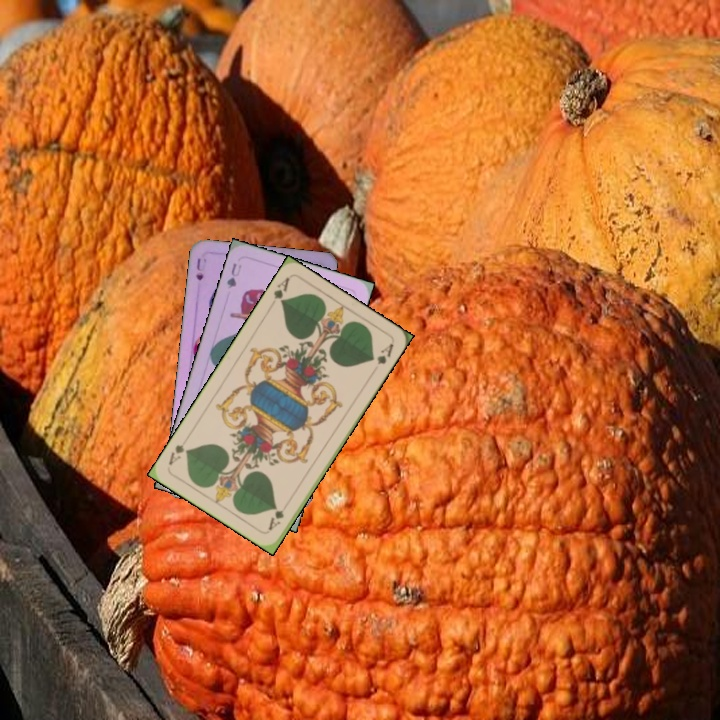GA: (269, 273, 292, 307), (264, 506, 286, 533)
GU: (223, 259, 244, 291)
SU: (192, 254, 209, 283)
